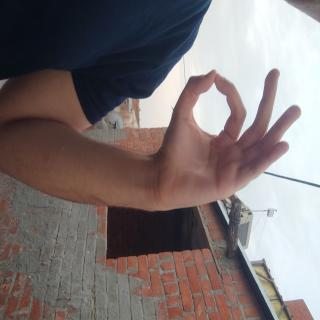Space: (45, 16, 165, 238)
